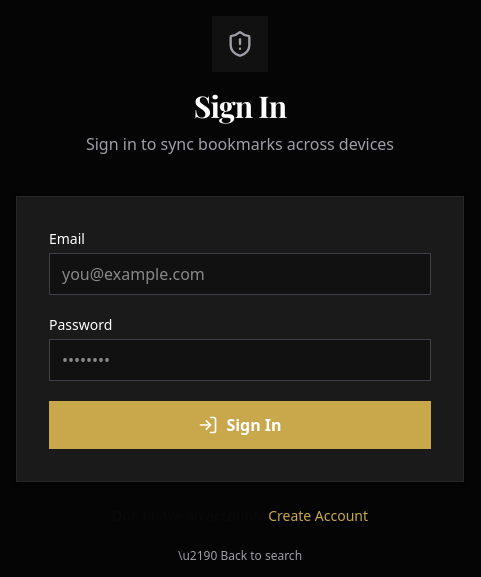
AuthPage › toggles back to 'Sign In' after switching to sign up
Note: Switch to sign up
Click the button "Create Account".
click(318, 516)  # box [268,506,368,526]
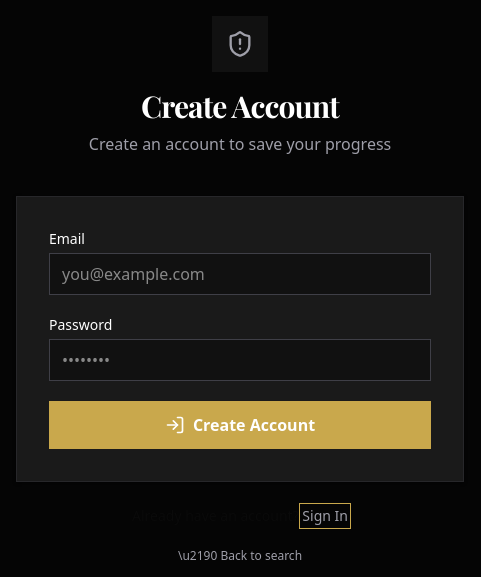
Now the heading "Create Account" is shown, box [141,86,339,126]
Note: Switch back
Click the button "Sign In".
click(325, 516)  # box [302,506,348,526]
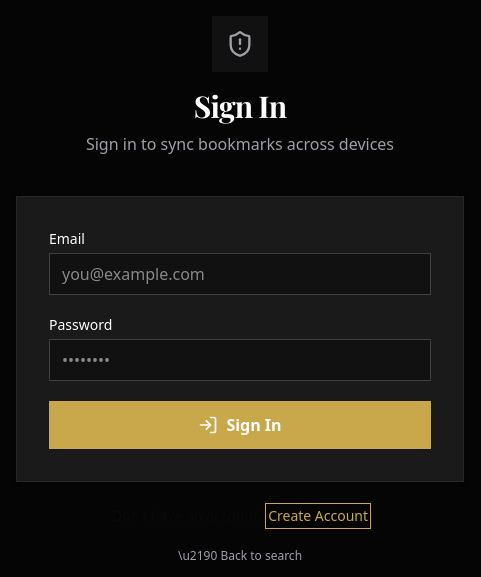
Now the heading "Sign In" is shown, box [194,86,286,126]
